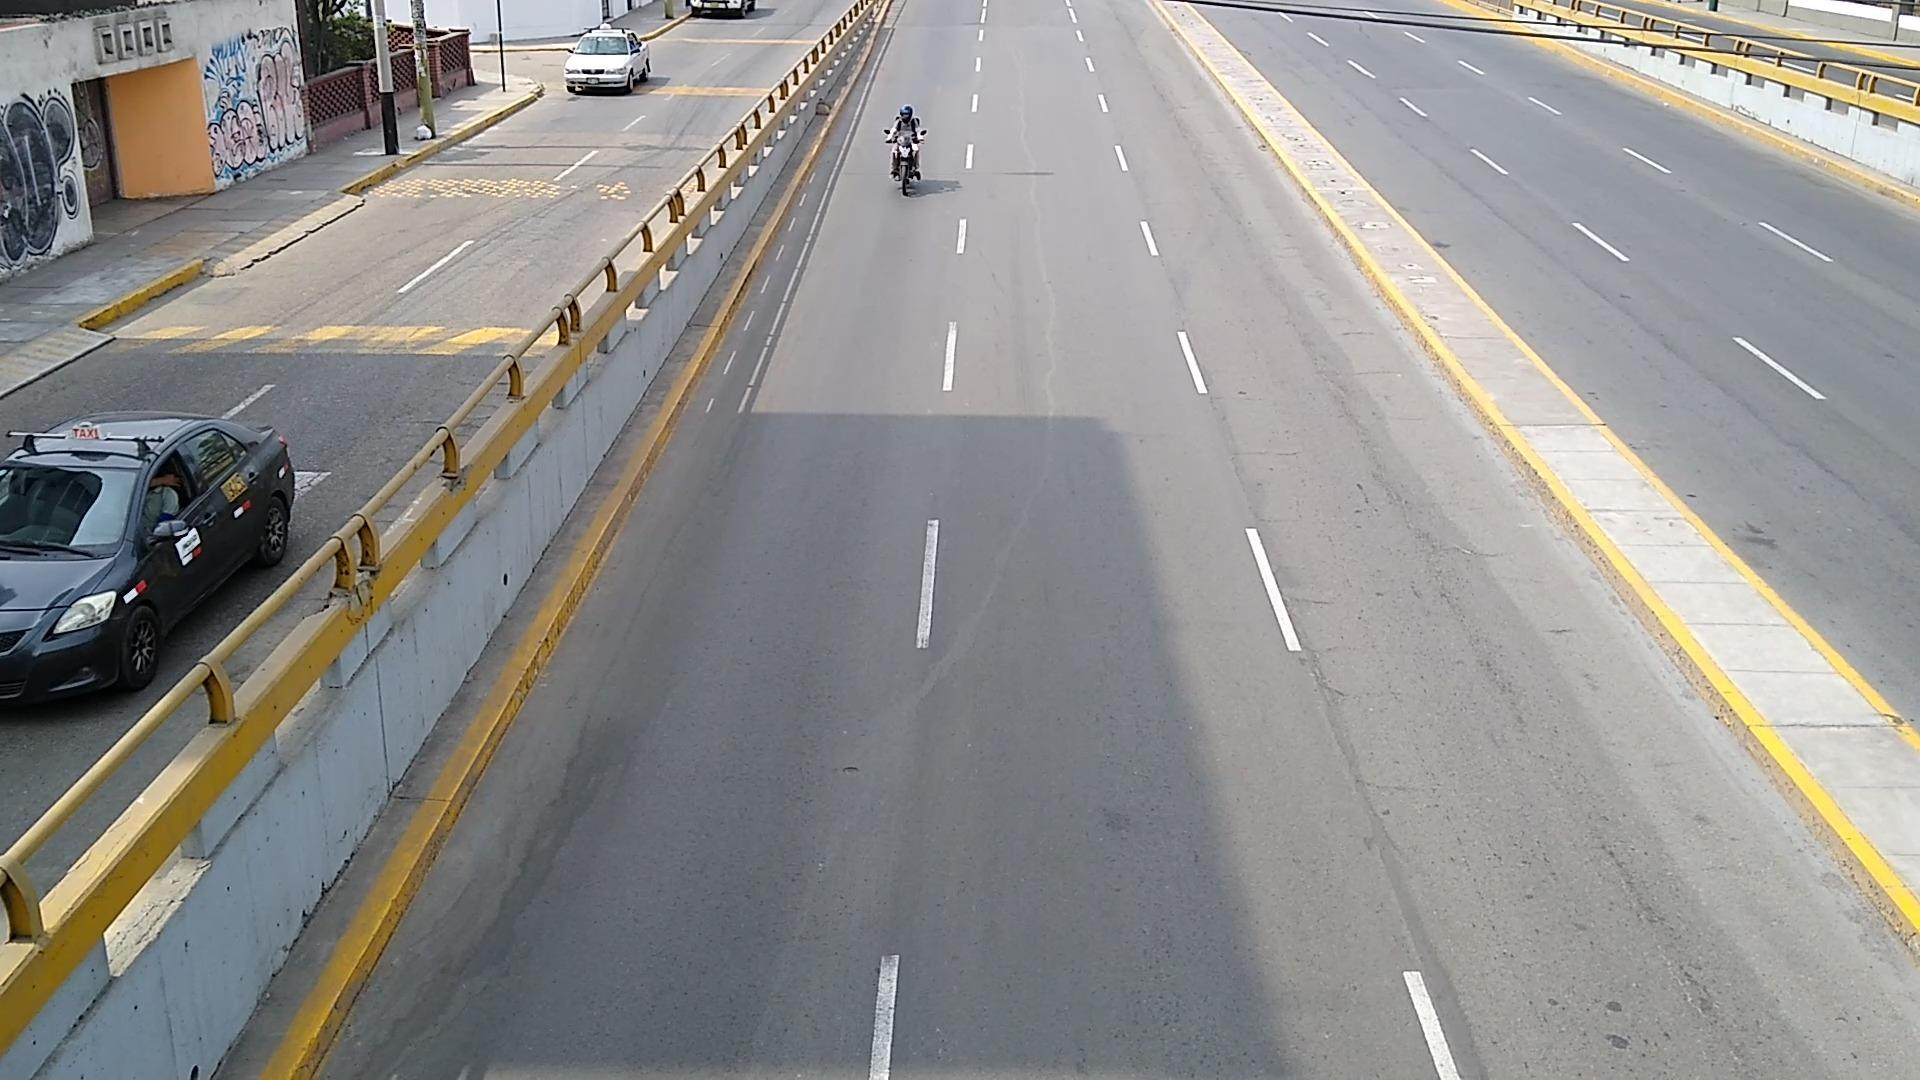car: (0, 413, 297, 705), (562, 30, 653, 95)
motorcyclist: (889, 105, 926, 195)
